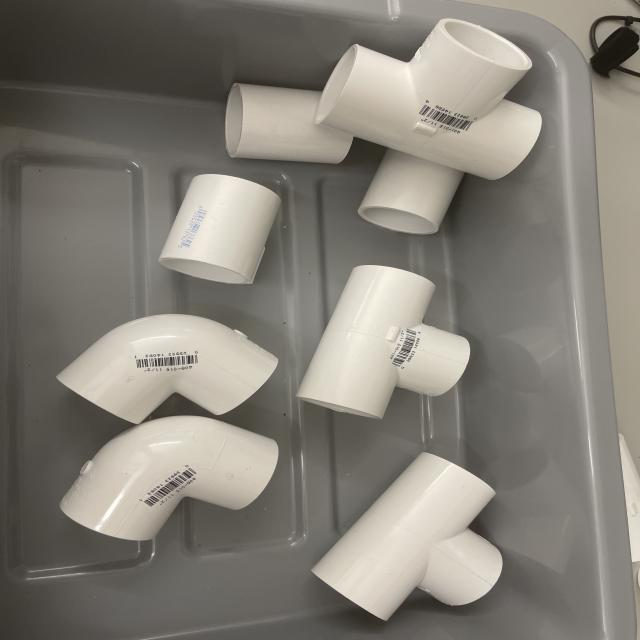L Joint: (61, 414, 279, 541), (55, 314, 278, 427)
T Joint: (314, 18, 543, 180), (311, 453, 504, 624), (296, 265, 472, 421)
